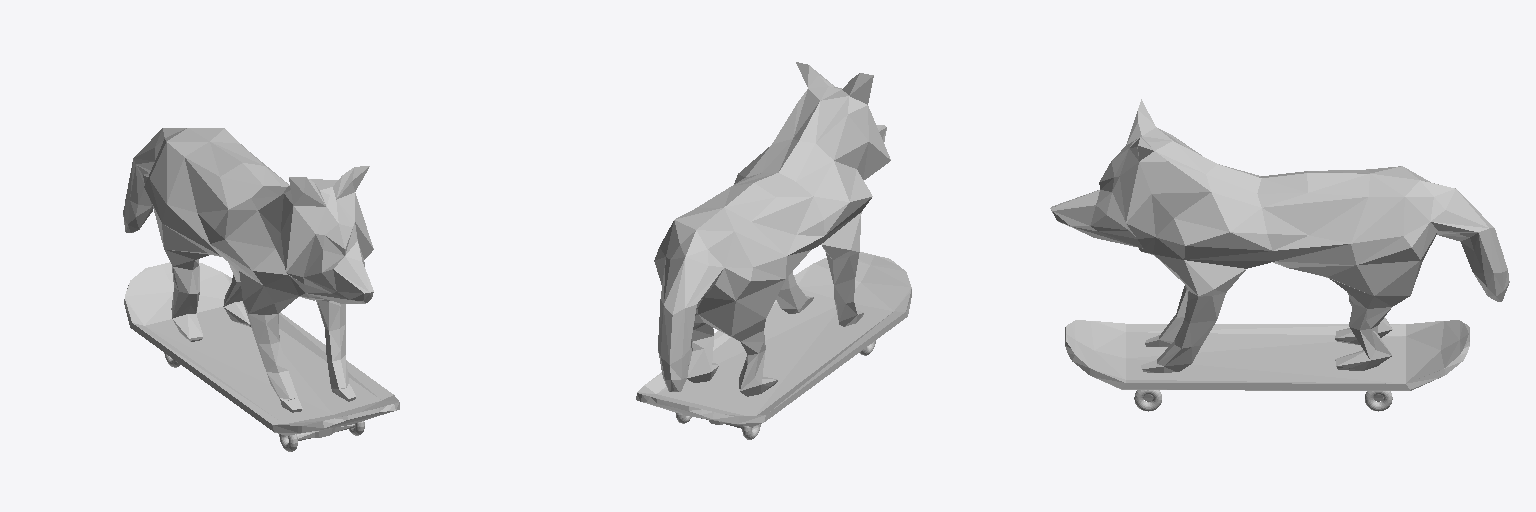
File: Fuchs22.obj
3 renders of one model, left to right at view 1: azimuth 30°, elevation 25°; view 2: azimuth 150°, elevation 25°; view 3: azimuth 270°, elevation 25°, orthographic.
Bounding box in the file's own units: 3.58 × 7.78 × 11.68.